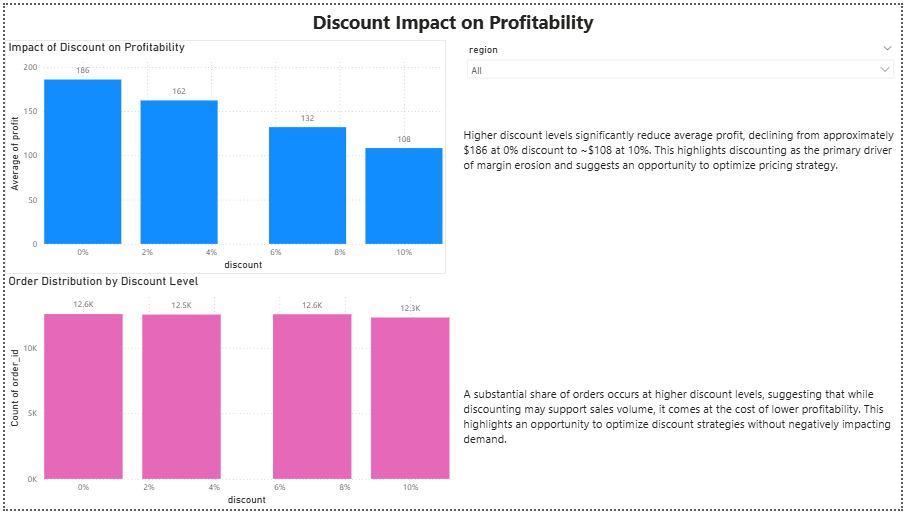

The dashboard page shown, as its layout file describes it:
{"tool":"powerbi","page":{"name":"Discount Impact on Profitability","canvas":[1280,720],"ordinal":2},"visuals":[{"type":"clusteredColumnChart","title":"Impact of Discount on Profitability","fields":{"Category":["public sales_data.discount"],"Y":["Avg(public sales_data.profit)"]},"box":[0,50,630,334.3],"z":0},{"type":"textbox","box":[650,170,630,178.6],"z":1},{"type":"slicer","fields":{"Values":["public sales_data.region"]},"box":[650,50,630,105.7],"z":2},{"type":"clusteredColumnChart","title":"Order Distribution by Discount Level","fields":{"Category":["public sales_data.discount"],"Y":["CountNonNull(public sales_data.order_id)"]},"box":[0,384.3,640,335.7],"z":3},{"type":"textbox","box":[650,540,630,180],"z":4},{"type":"textbox","box":[0,0,1280,50],"z":5}]}

Visuals, with their boxes in screenshot pixels (x1, y1, x2, y2), scaled from the page's 1280x720 canvas onto the 906x514 screenshot:
"Impact of Discount on Profitability" clusteredColumnChart: [0,36,446,274]
textbox: [460,121,905,249]
slicer - public sales_data.region: [460,36,905,111]
"Order Distribution by Discount Level" clusteredColumnChart: [0,274,453,513]
textbox: [460,386,905,513]
textbox: [0,0,905,36]
